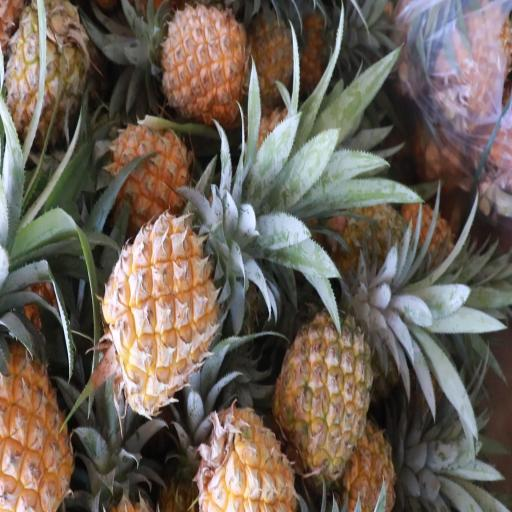------------------------------: (276, 319, 368, 479), (10, 6, 84, 140)
Pineapple - v8 v1: (103, 221, 215, 408), (0, 333, 73, 512), (196, 401, 292, 512), (163, 7, 248, 117), (108, 124, 190, 221)
